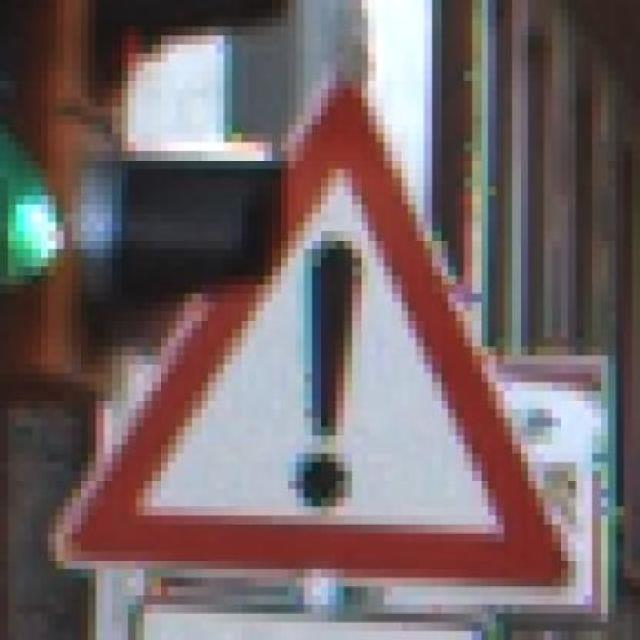Attention Please-: (29, 69, 582, 593)
